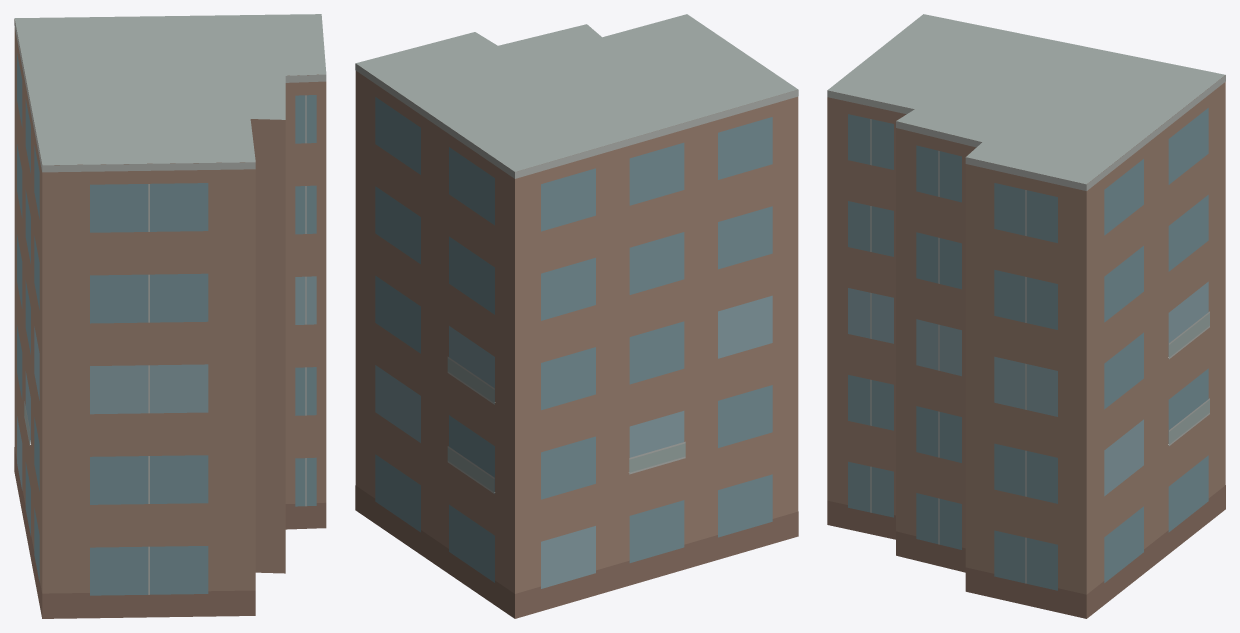
File: survey-upis-32875472.glb
3 views of the same model, side by side, from view 1: azimuth 30°, elevation 25°; view 2: azimuth 150°, elevation 25°; view 3: azimuth 270°, elevation 25° (orthographic). The views are drawn at different scales.
Visible parts, largest first — view 1: survey-upis-32875472.tmp; view 2: survey-upis-32875472.tmp; view 3: survey-upis-32875472.tmp.
Part boxes in pixels (x1,y1,x2,y2): survey-upis-32875472.tmp: (14, 14, 326, 618); survey-upis-32875472.tmp: (355, 14, 798, 618); survey-upis-32875472.tmp: (827, 14, 1225, 618).
Bounding box in the file's own units: 13.13 × 15.6 × 12.97.
